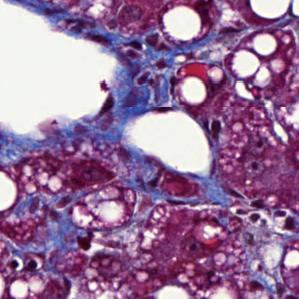inflammation: (226, 185, 299, 234)
